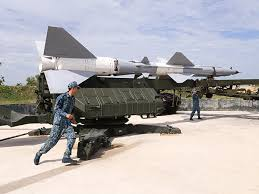ten_lua: (32, 34, 243, 91)
